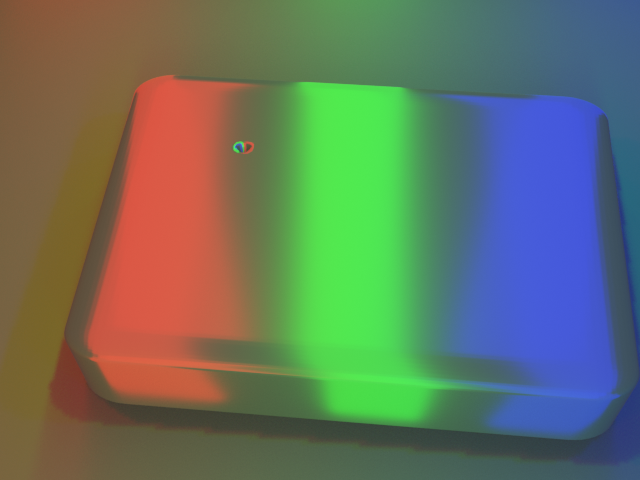dent: (216, 121, 257, 167)
